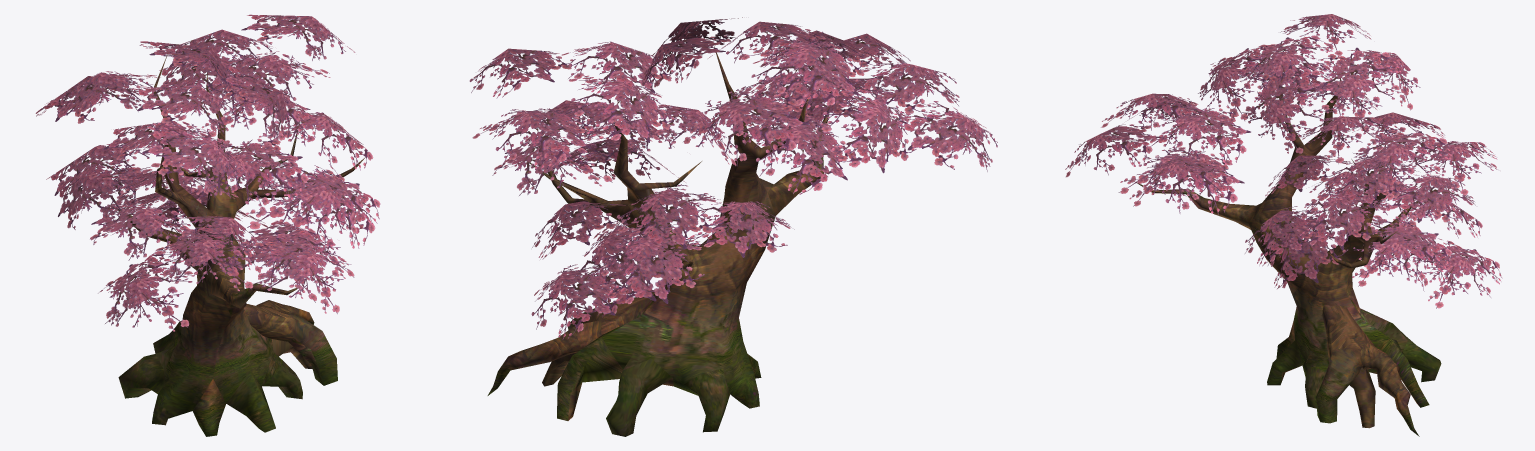
3 views of the same model, side by side, from view 1: azimuth 30°, elevation 25°; view 2: azimuth 150°, elevation 25°; view 3: azimuth 270°, elevation 25° (orthographic). The views are drawn at different scales.
Parts seen in each view (by area): view 1: polySurface59; view 2: polySurface59; view 3: polySurface59.
Part boxes in pixels (x1=…): polySurface59: x1=35, y1=14, x2=380, y2=436; polySurface59: x1=469, y1=17, x2=997, y2=436; polySurface59: x1=1065, y1=14, x2=1502, y2=436.
Bounding box in the file's own units: 28.47 × 25.57 × 34.06.
Materials: 1 (1 with a texture image).
